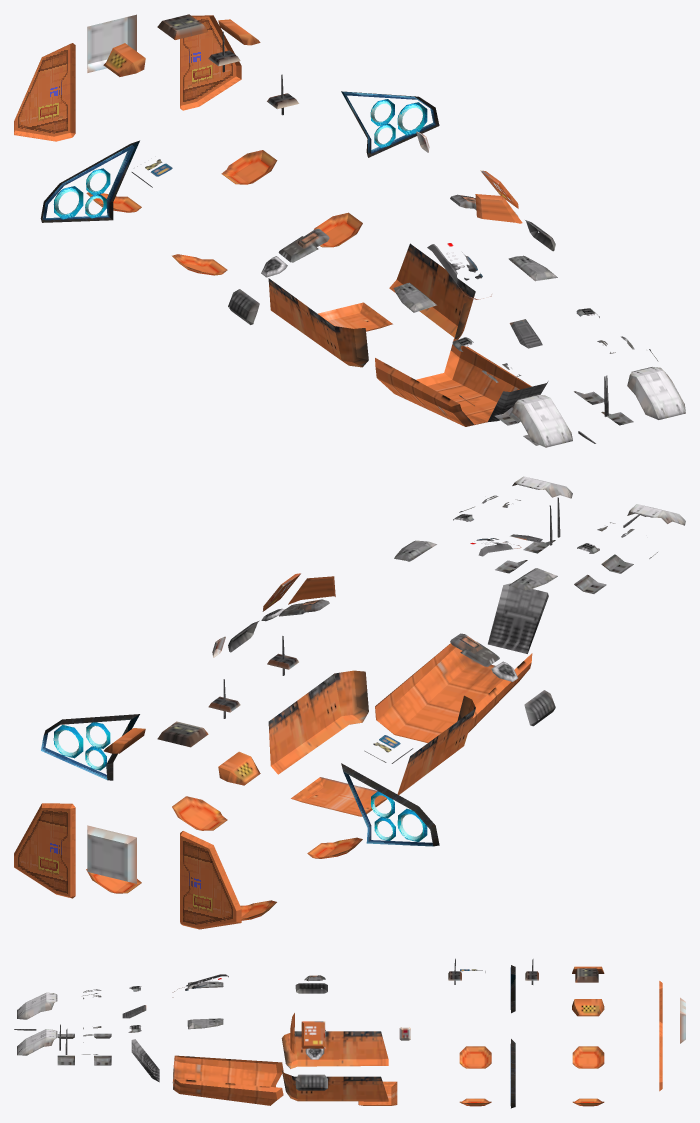
Rendered from Body.obj.
3 views of the same model, one above another, from view 1: azimuth 30°, elevation 25°; view 2: azimuth 150°, elevation 25°; view 3: azimuth 270°, elevation 25° (orthographic). The views are drawn at different scales.
Visible parts, largest first — view 1: FrontUV, LeftoverUV, RearPlate, BurnerUV; view 2: FrontUV, RearPlate, LeftoverUV, BurnerUV; view 3: FrontUV, LeftoverUV, BurnerUV, RearPlate.
Part boxes in pixels (box(x1,y1,x2,y2)): FrontUV: box(222, 31, 685, 447); LeftoverUV: box(86, 14, 542, 348); RearPlate: box(14, 15, 241, 141); BurnerUV: box(40, 91, 439, 222); FrontUV: box(212, 476, 685, 816); RearPlate: box(14, 803, 241, 929); LeftoverUV: box(86, 534, 542, 920); BurnerUV: box(41, 714, 439, 846); FrontUV: box(14, 958, 533, 1105); LeftoverUV: box(122, 966, 685, 1106); BurnerUV: box(510, 965, 515, 1108); RearPlate: box(659, 981, 662, 1091).
Size of the model in its own units: 23.68 by 11.93 by 52.67.
